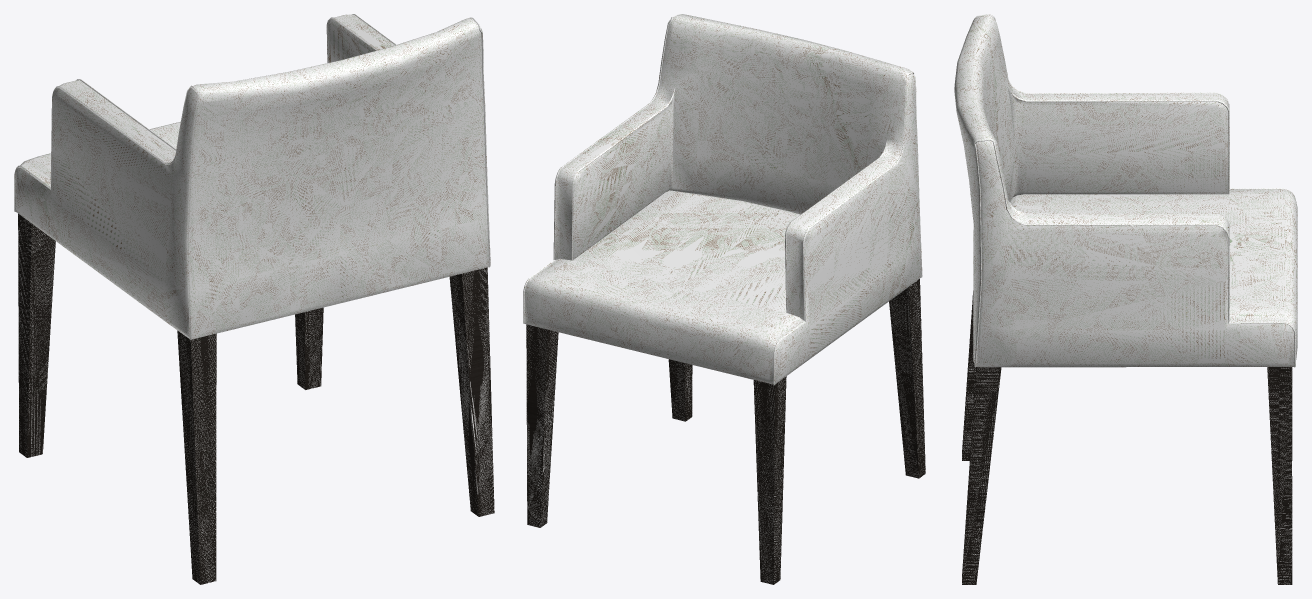
3 renders of one model, left to right at view 1: azimuth 30°, elevation 25°; view 2: azimuth 150°, elevation 25°; view 3: azimuth 270°, elevation 25°, orthographic. The views are drawn at different scales.
Parts seen in each view (by area): view 1: mesh5_mesh5-geometry, mesh4_mesh4-geometry, mesh2_mesh2-geometry, mesh3_mesh3-geometry, mesh1_mesh1-geometry; view 2: mesh5_mesh5-geometry, mesh3_mesh3-geometry, mesh1_mesh1-geometry, mesh4_mesh4-geometry, mesh2_mesh2-geometry; view 3: mesh5_mesh5-geometry, mesh2_mesh2-geometry, mesh1_mesh1-geometry, mesh4_mesh4-geometry.
Part boxes in pixels (bbox=[...]): mesh5_mesh5-geometry: bbox=[14, 14, 490, 340]; mesh4_mesh4-geometry: bbox=[177, 330, 216, 584]; mesh2_mesh2-geometry: bbox=[449, 267, 494, 516]; mesh3_mesh3-geometry: bbox=[18, 213, 55, 457]; mesh1_mesh1-geometry: bbox=[295, 307, 323, 389]; mesh5_mesh5-geometry: bbox=[523, 14, 922, 385]; mesh3_mesh3-geometry: bbox=[753, 376, 786, 584]; mesh1_mesh1-geometry: bbox=[526, 324, 558, 527]; mesh4_mesh4-geometry: bbox=[889, 279, 925, 478]; mesh2_mesh2-geometry: bbox=[668, 359, 692, 421]; mesh5_mesh5-geometry: bbox=[954, 14, 1297, 367]; mesh2_mesh2-geometry: bbox=[962, 367, 1001, 584]; mesh1_mesh1-geometry: bbox=[1267, 367, 1292, 584]; mesh4_mesh4-geometry: bbox=[962, 291, 976, 460].
Bounding box in the file's own units: 0.4732 × 0.7215 × 0.5055.
Materials: 3 (2 with a texture image).
